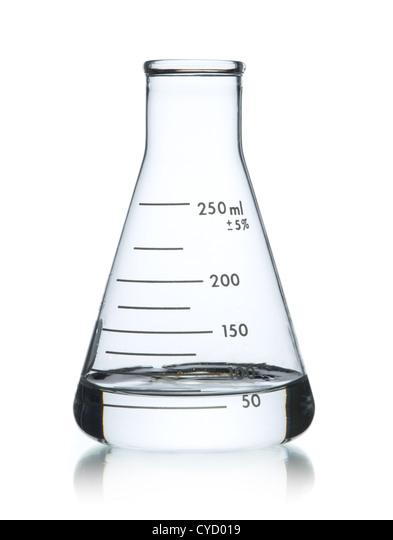Titrarion: (70, 47, 327, 450)
